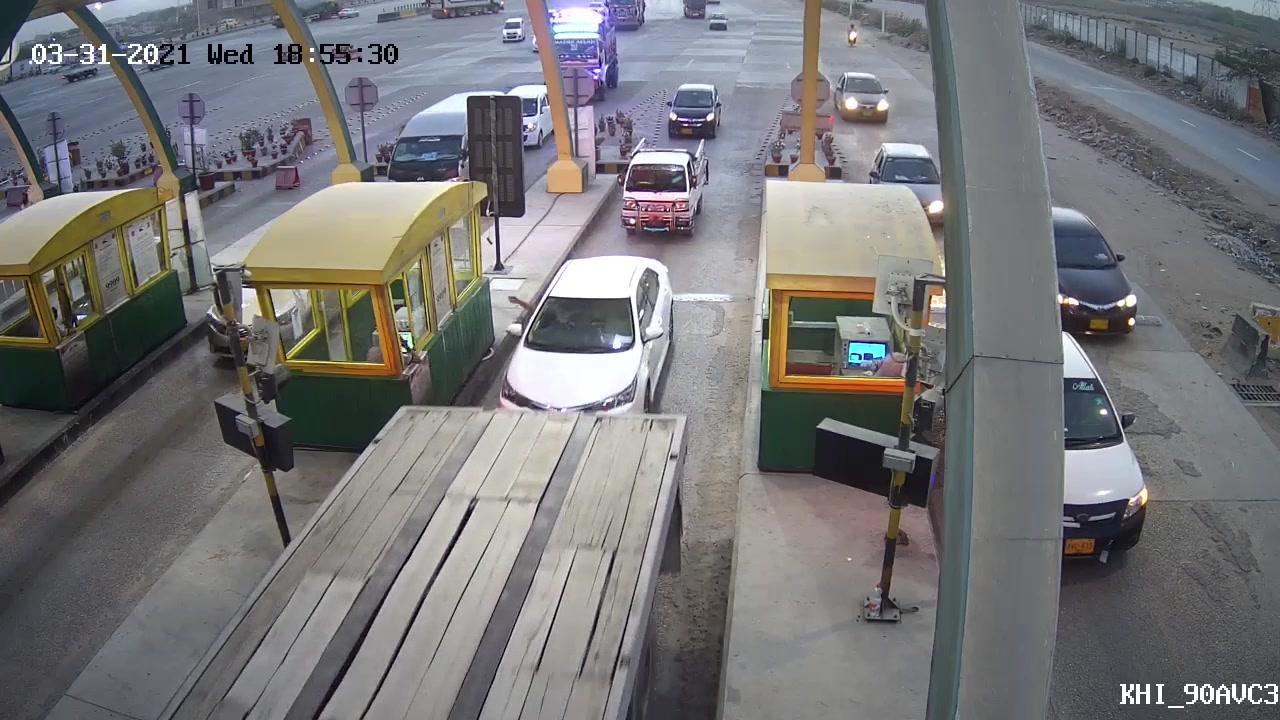F2: (619, 136, 717, 238)
